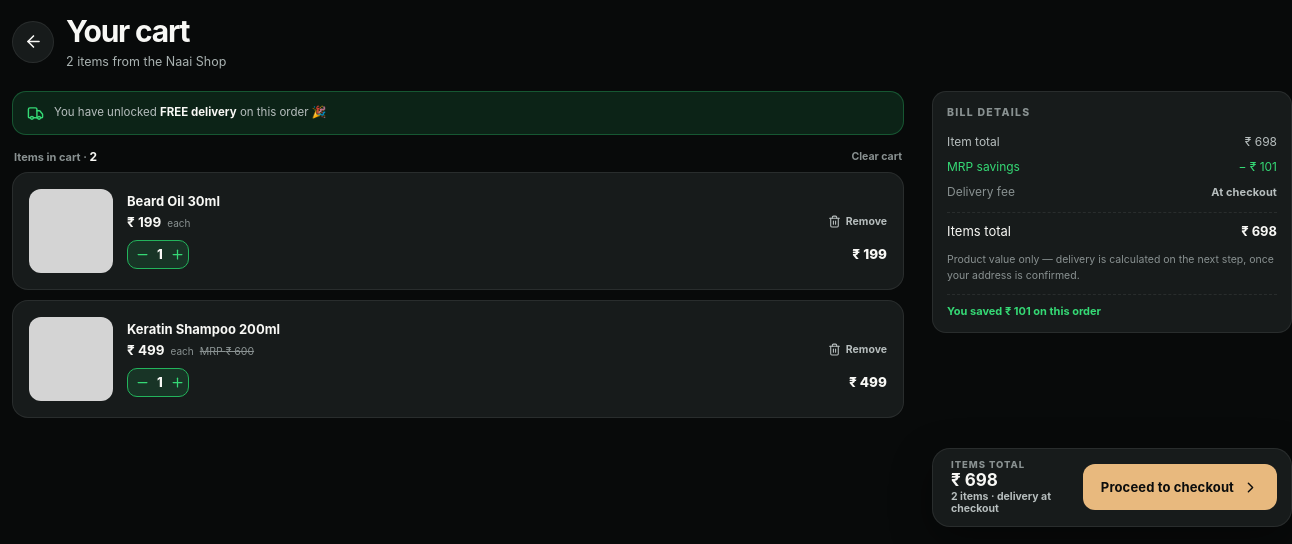
Test: ShopCartScreen › steppers adjust quantities, line totals update, and lines can be removed
Expected: the number of elements with class "shop-cart-item" is 2, [12,172,904,290]; [12,300,904,418]
Expected: the 2nd text with class "shop-cart-line-total" reads "₹ 199", [852,246,887,262]
Click the button named "Increase quantity" below "Beard Oil 30ml" at x=177, y=254, box [163,241,192,268]
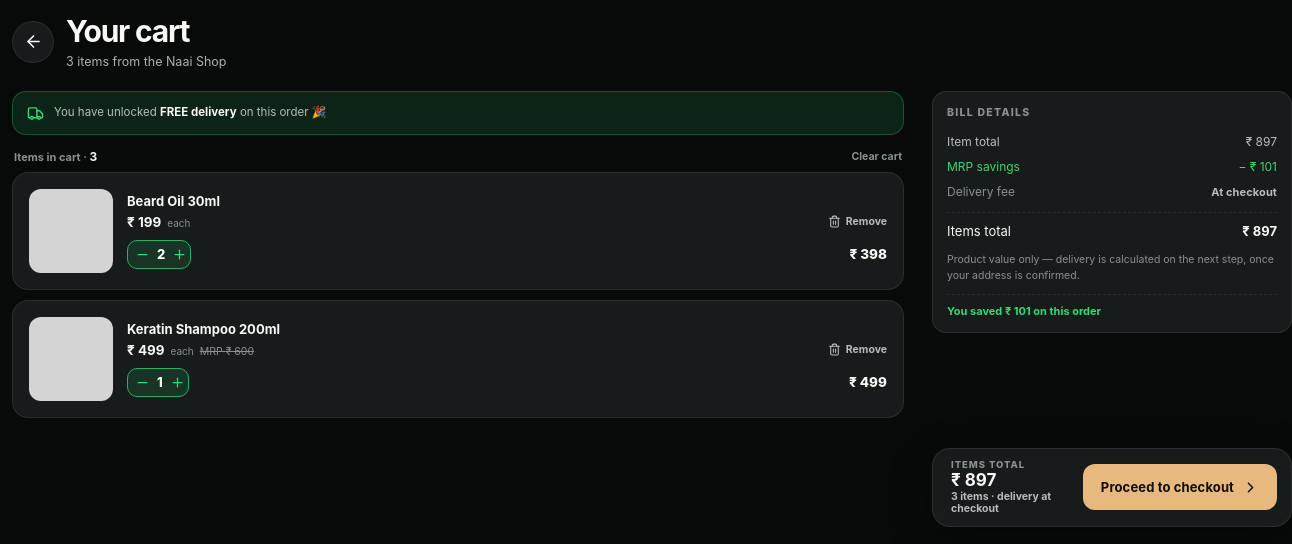
Expected: the message "You have unlocked FREE delivery on this order 🎉" is shown, [12,91,904,135]
Expected: the text with class "shop-cart-line-total" reads "₹ 398", [849,246,887,262]
Expected: the element with class "shop-cart-footer" shows "₹ 897", [951,470,996,490]
Click the button named "Decrease quantity" below "₹ 600" at x=142, y=382, box [128,369,157,396]
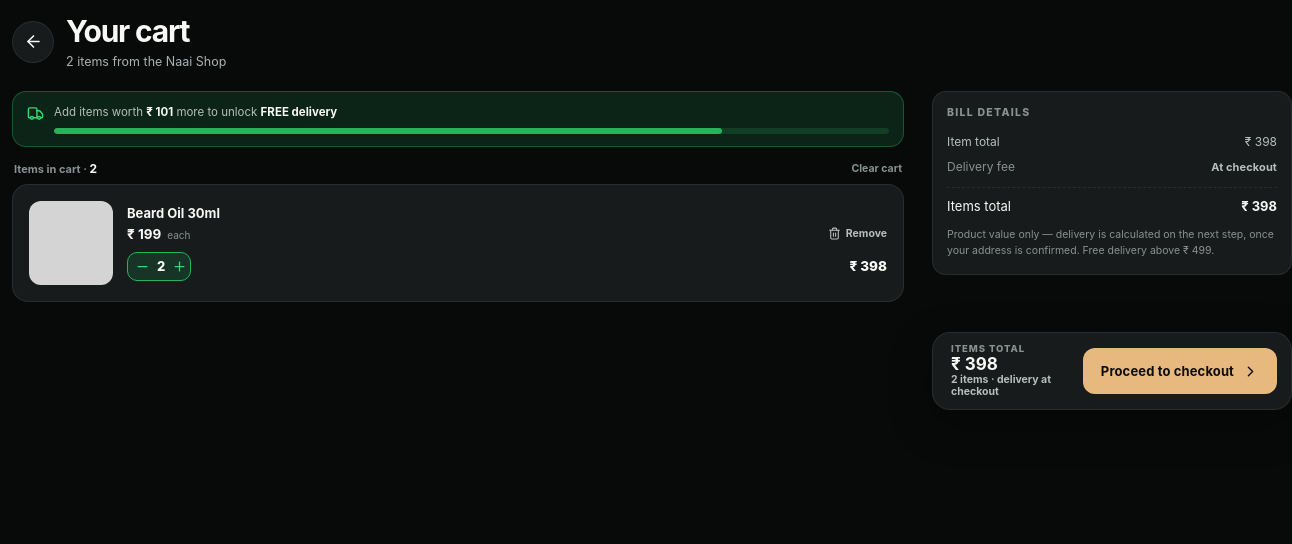
Expected: the number of elements with class "shop-cart-item" is 1, [12,184,904,302]
Expected: the element with class "shop-cart-footer" shows "₹ 398", [951,354,998,374]
Click the button with class "shop-cart-remove" at x=857, y=234, box [828,227,887,240]
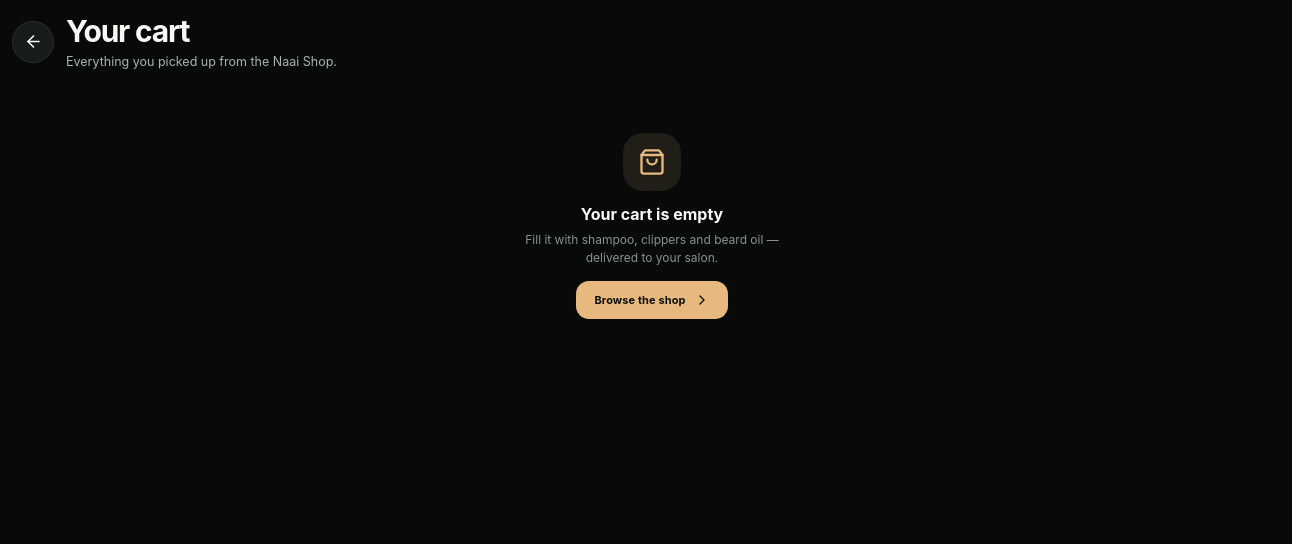
Expected: the text "Your cart is empty" is shown, [581,204,723,224]
